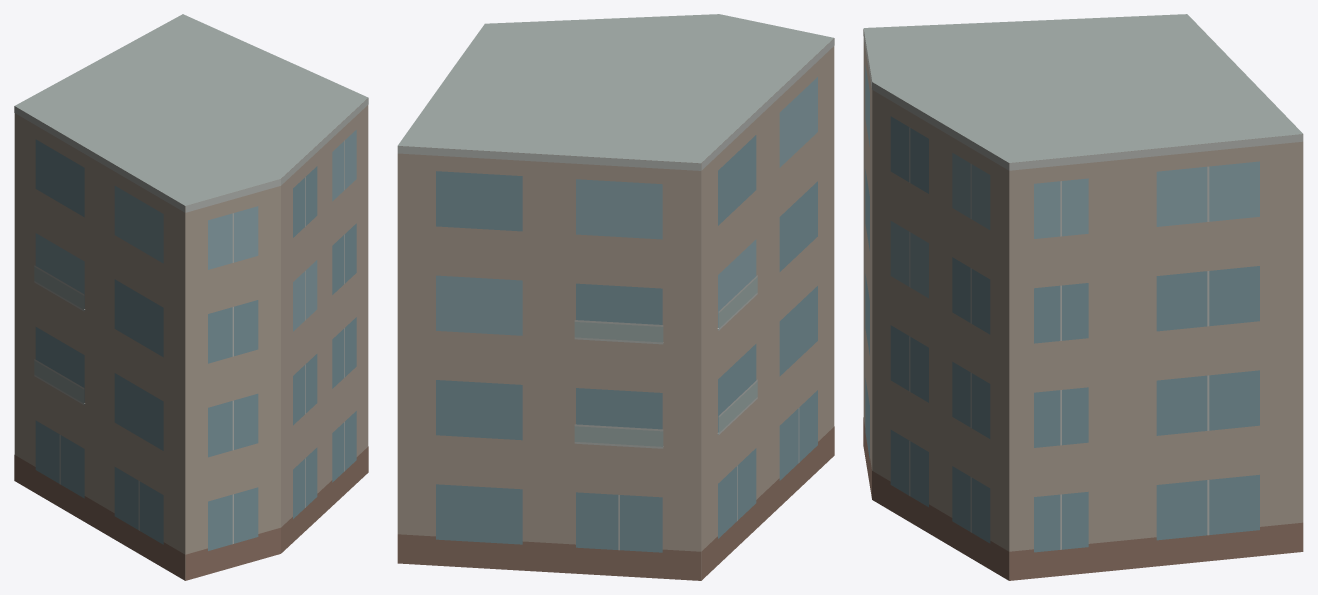
File: survey-upis-32487119.glb
3 renders of one model, left to right at view 1: azimuth 30°, elevation 25°; view 2: azimuth 150°, elevation 25°; view 3: azimuth 270°, elevation 25°, orthographic. The views are drawn at different scales.
Visible parts, largest first — view 1: survey-upis-32487119.tmp; view 2: survey-upis-32487119.tmp; view 3: survey-upis-32487119.tmp.
Boxes of the visible parts, x1,y1,x2,y2 form: survey-upis-32487119.tmp: (14,14,368,580); survey-upis-32487119.tmp: (397,14,834,580); survey-upis-32487119.tmp: (863,14,1303,580).
Size of the model in its own units: 10.15 by 13.25 by 12.65.
